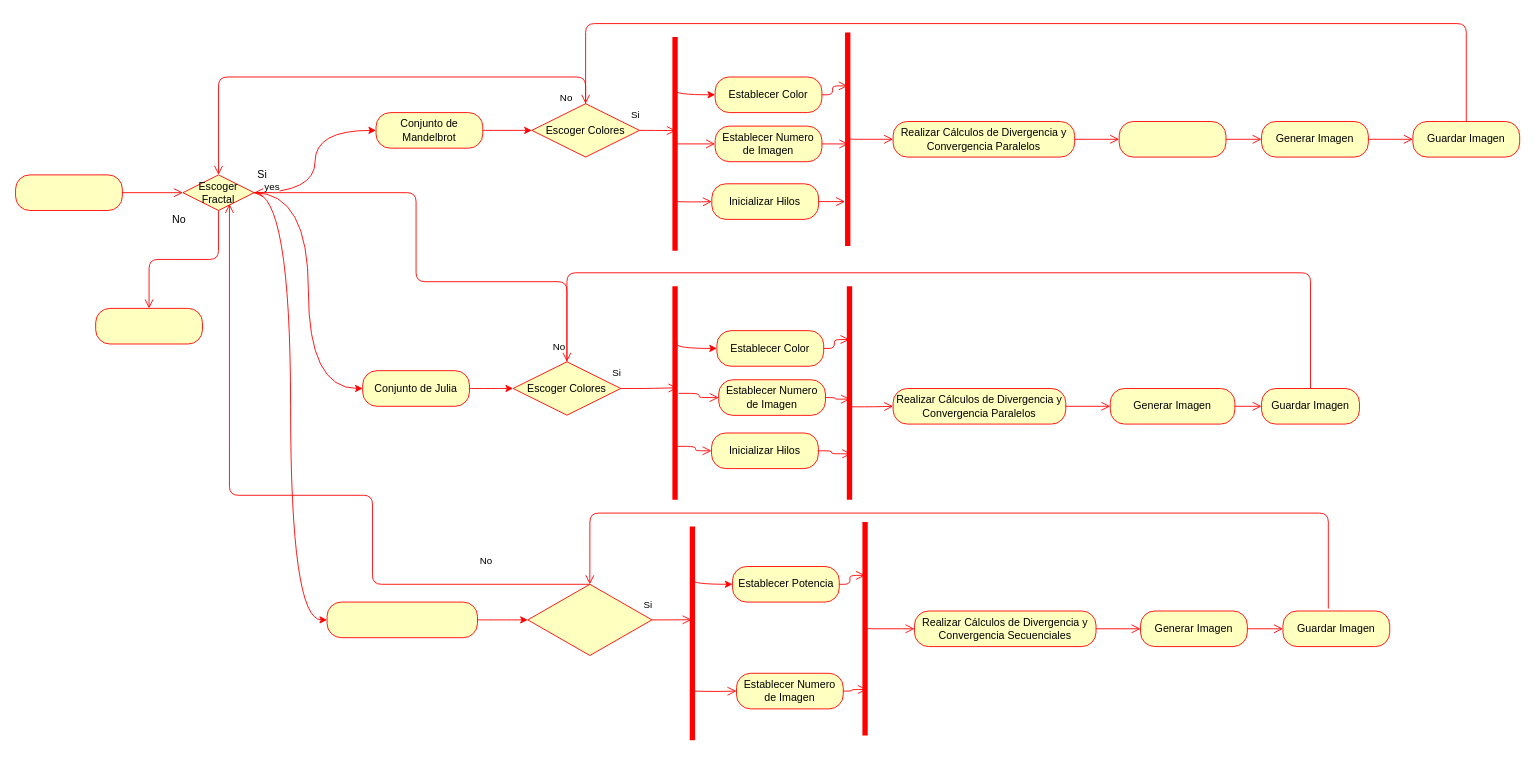
Image size: 1535x758. Some labels were removed from this diagram. Each missing label, with the centre of its shape:
Escoger Potencia Multibrot: the point at 589,619
fin: the point at 148,325
Generar Matriz para la imagen: the point at 1172,139
main: the point at 68,192
Multibrot: the point at 401,619
